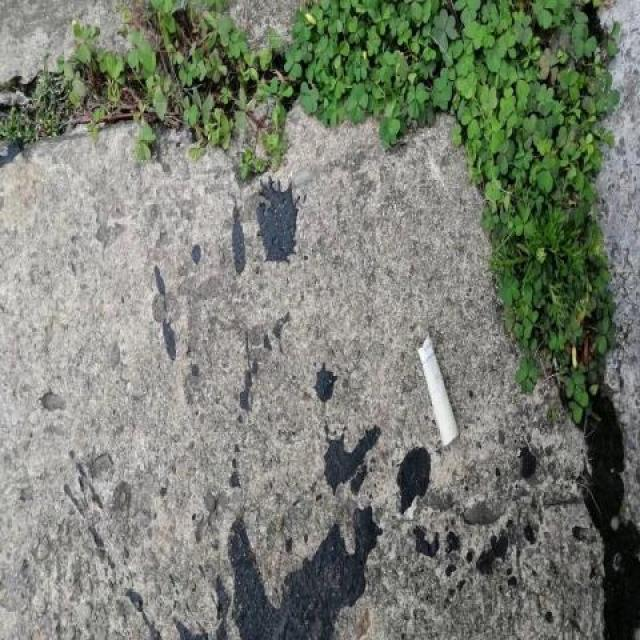non-organic waste: (412, 329, 467, 452)
